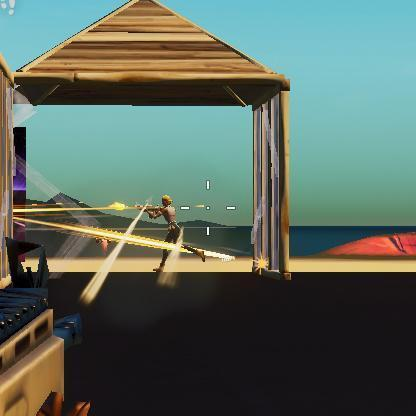person: (141, 194, 182, 270)
